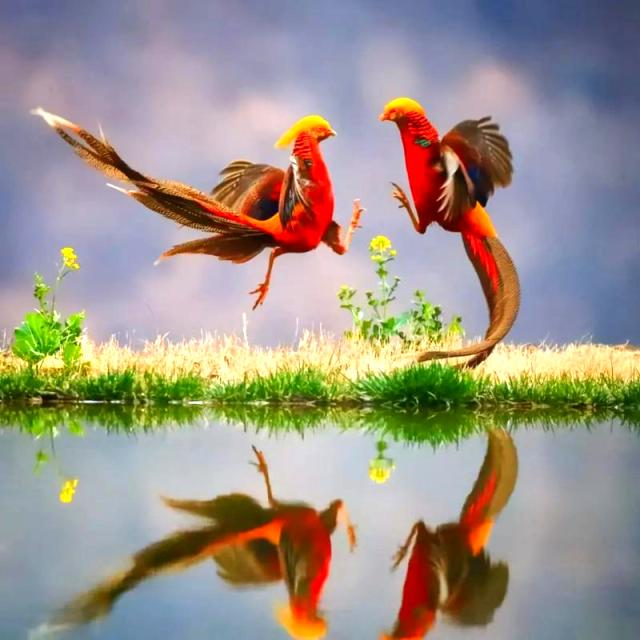Chrysolophus pictus feather: (34, 107, 265, 266), (408, 234, 521, 369)
